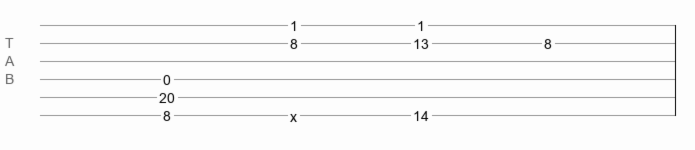0: (163, 72, 171, 82)
1: (290, 18, 298, 28), (417, 18, 425, 28)
13: (413, 36, 429, 46)
14: (413, 108, 429, 118)
20: (159, 90, 175, 100)
8: (163, 108, 171, 118), (290, 36, 298, 46), (544, 36, 552, 46)
x: (290, 109, 297, 117)
